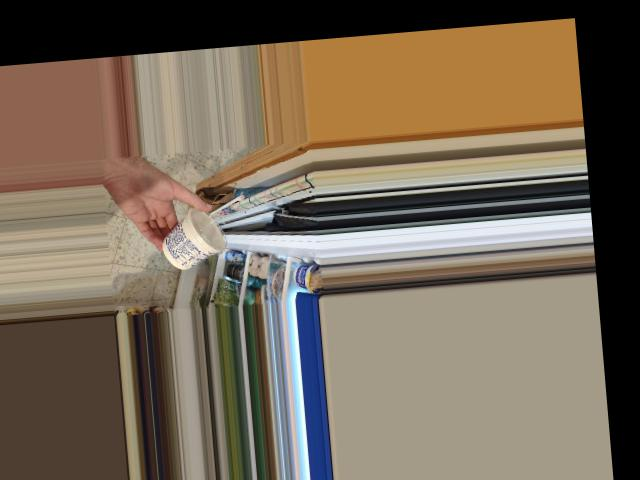cotage: (157, 207, 229, 266)
